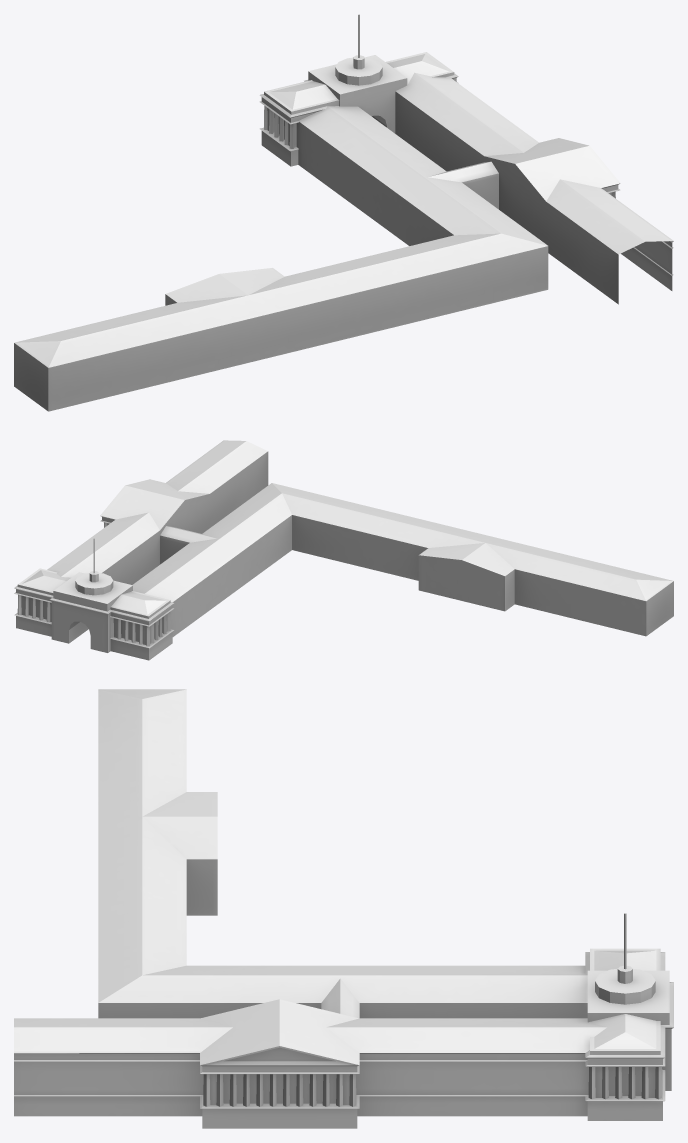
Rendered from admiralty3.dae.
The picture shows the model from 3 angles, top to bottom: view 1: azimuth 30°, elevation 25°; view 2: azimuth 150°, elevation 25°; view 3: azimuth 270°, elevation 25°; orthographic projection. The views are drawn at different scales.
Visible parts, largest first — view 1: Admiralty4, Admiralty5; view 2: Admiralty4, Admiralty5; view 3: Admiralty4, Admiralty5.
Part boxes in pixels (left/top/right/bottom): Admiralty4: left=259, top=14, right=673, bottom=304; Admiralty5: left=14, top=233, right=548, bottom=411; Admiralty4: left=14, top=440, right=291, bottom=660; Admiralty5: left=272, top=483, right=673, bottom=636; Admiralty4: left=14, top=913, right=673, bottom=1128; Admiralty5: left=98, top=689, right=217, bottom=1002.
Bounding box in the file's own units: 0.3128 × 0.2273 × 0.0591.
1 material, 1 textured.
